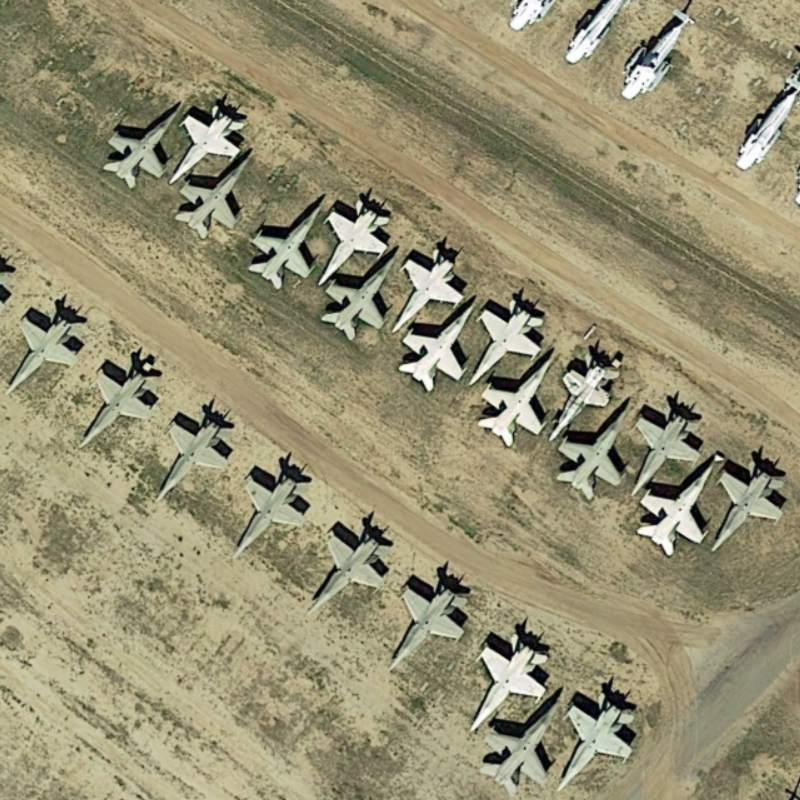A16: (305, 508, 399, 619), (470, 622, 554, 739), (386, 560, 476, 667), (470, 700, 571, 795), (2, 294, 90, 399), (231, 451, 315, 561), (557, 680, 639, 792), (148, 400, 235, 505), (633, 455, 718, 561), (170, 146, 257, 245), (629, 393, 705, 504), (710, 442, 784, 556), (470, 284, 547, 391), (318, 183, 393, 292), (102, 98, 186, 193), (558, 394, 631, 502), (398, 295, 476, 395), (168, 89, 247, 187), (254, 191, 326, 298), (481, 347, 553, 451), (548, 346, 620, 450), (81, 354, 161, 447), (397, 239, 467, 337), (323, 244, 392, 342)
